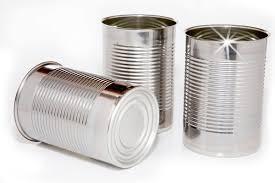can: (11, 11, 265, 171)
